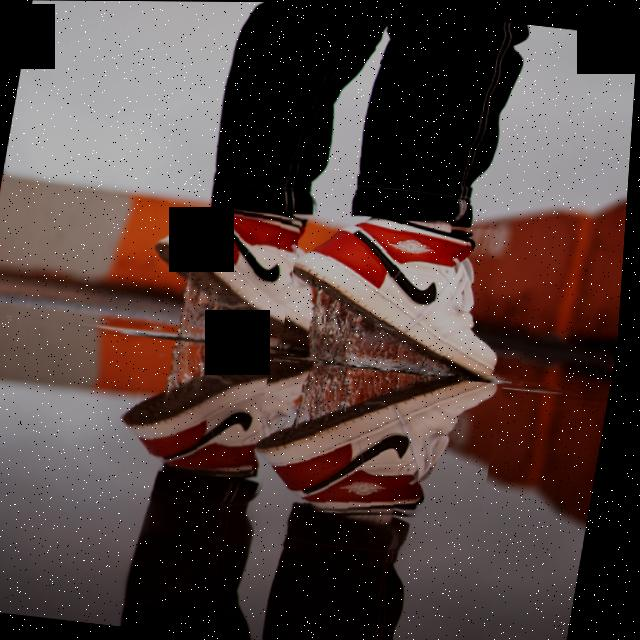shoe: (282, 208, 554, 383), (251, 358, 509, 530), (116, 340, 314, 487), (140, 197, 340, 342)
